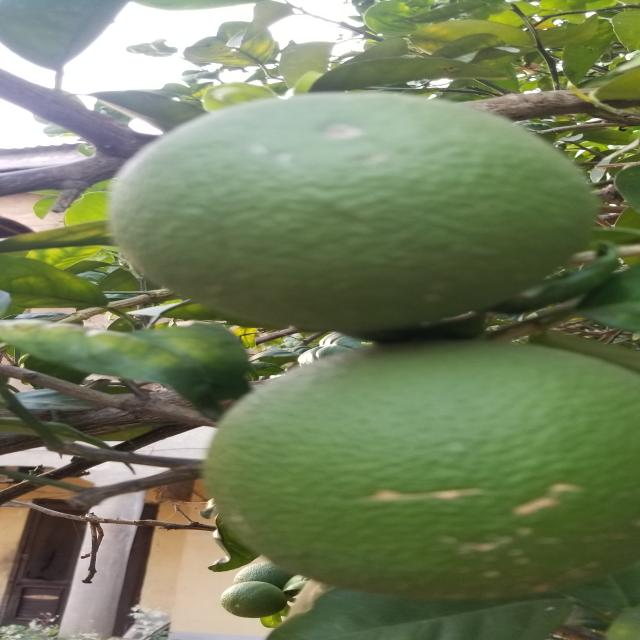Unripe: (121, 92, 588, 332), (212, 343, 640, 592)
